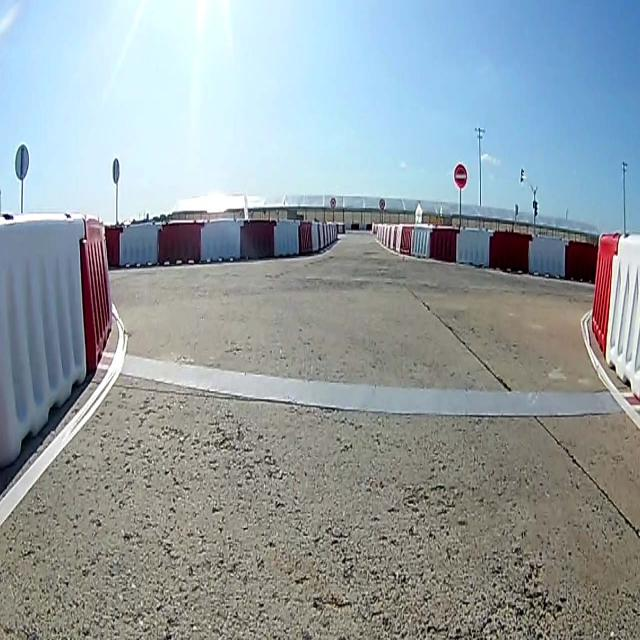girisyok: (454, 161, 468, 192)
